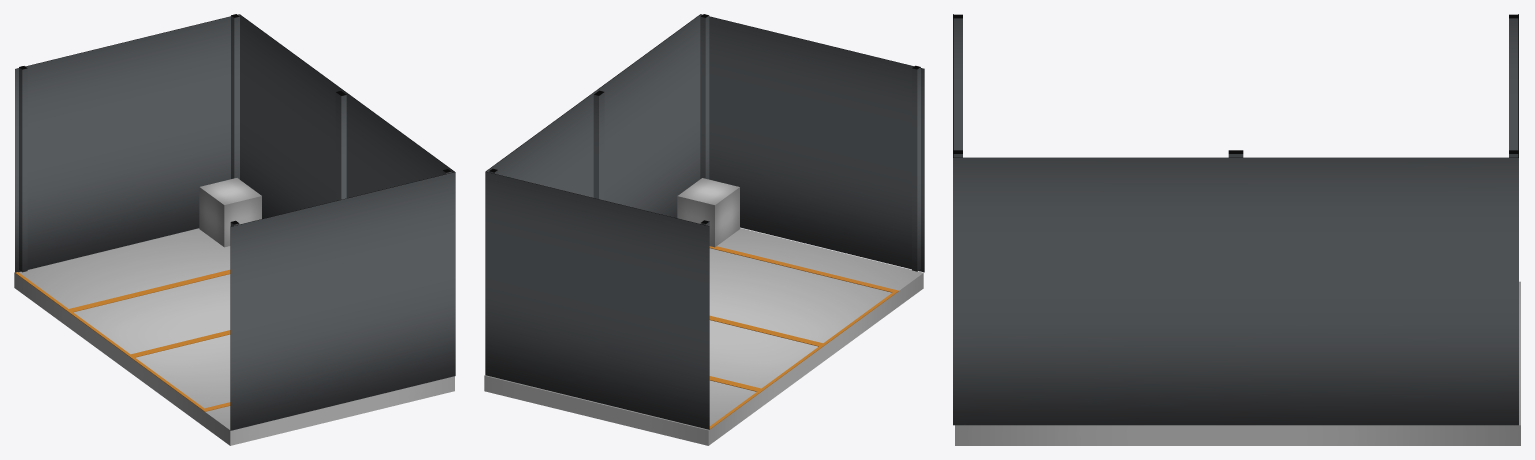
Rendered from soulbrain_T8-forklift.glb.
3 views of the same model, side by side, from view 1: azimuth 30°, elevation 25°; view 2: azimuth 150°, elevation 25°; view 3: azimuth 270°, elevation 25° (orthographic). The views are drawn at different scales.
Parts seen in each view (by area): view 1: Box1694, Box1744, Box106, Line677; view 2: Box1694, Box1744, Box106, Line677; view 3: Box1694, Box1744.
Part boxes in pixels (x1,y1,x2,y2): Box1694: [15, 14, 455, 430]; Box1744: [14, 228, 454, 445]; Box106: [199, 178, 261, 247]; Line677: [15, 269, 230, 411]; Box1694: [485, 14, 924, 429]; Box1744: [484, 228, 923, 445]; Box106: [677, 178, 739, 247]; Line677: [709, 246, 898, 429]; Box1694: [953, 14, 1518, 425]; Box1744: [955, 281, 1520, 445].
Bounding box in the file's own units: 4.52 × 4.23 × 7.52.
4 materials, 3 textured.
